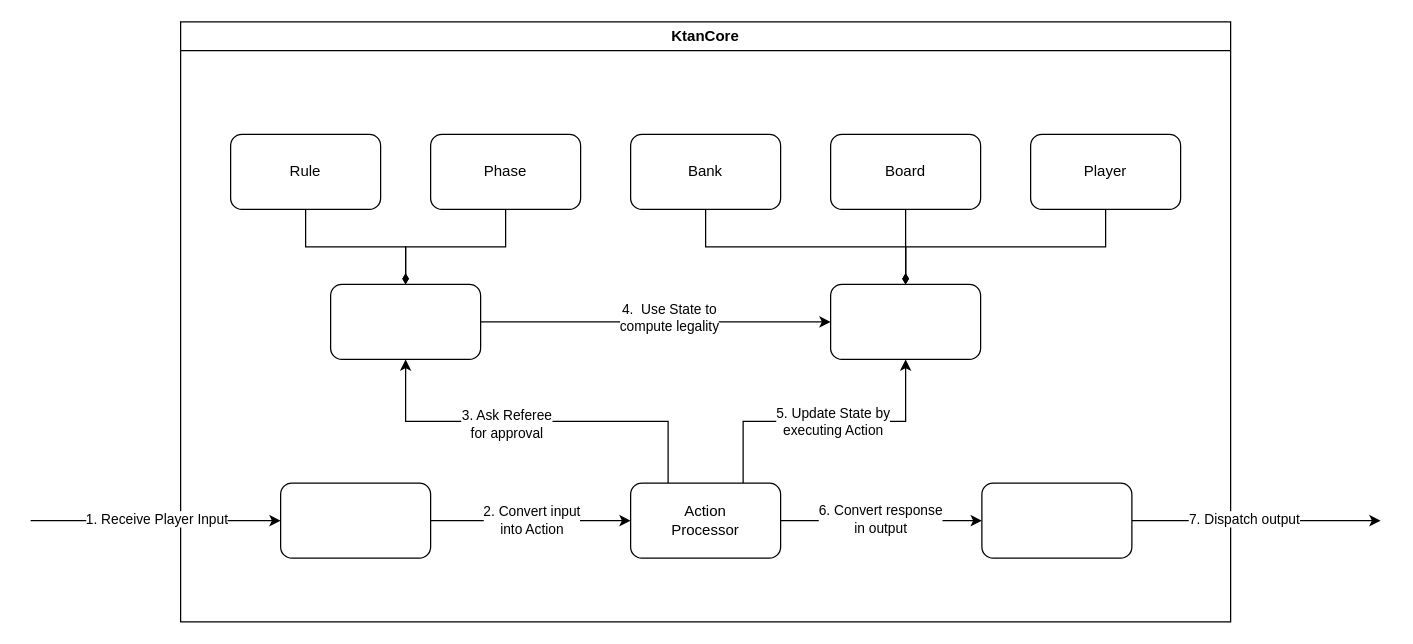
This 1413x644 diagram has some shape labels left out. The centre of each missing label's shape, as x and y in pixels:
"Input Receiver" belongs at point 355,520.
"Output Dispatcher" belongs at point 1056,520.
"Referee" belongs at point 405,321.
"State" belongs at point 905,321.
